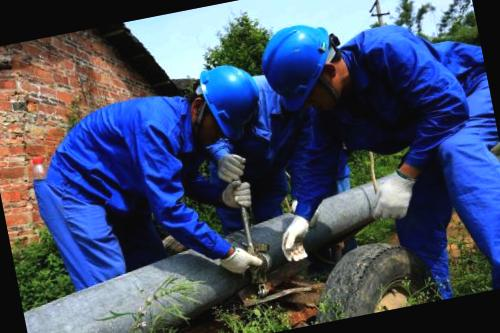person: (252, 0, 500, 324), (7, 65, 290, 307)
